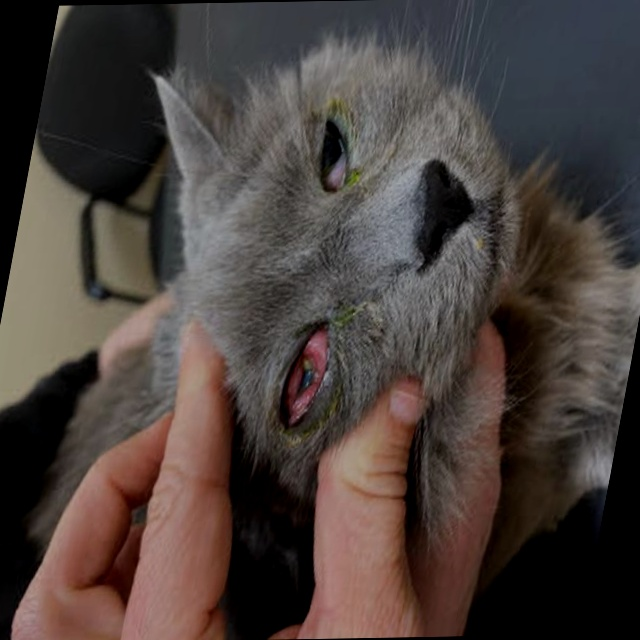eye_infection: (268, 313, 352, 429), (310, 104, 362, 192)
